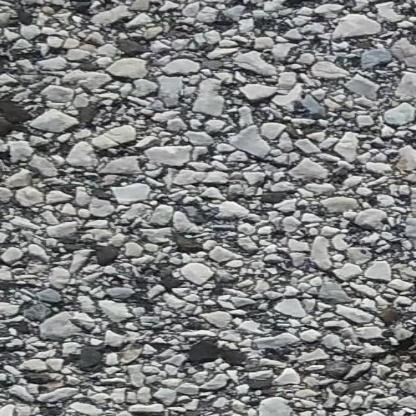Cracks: (386, 225, 416, 416)
